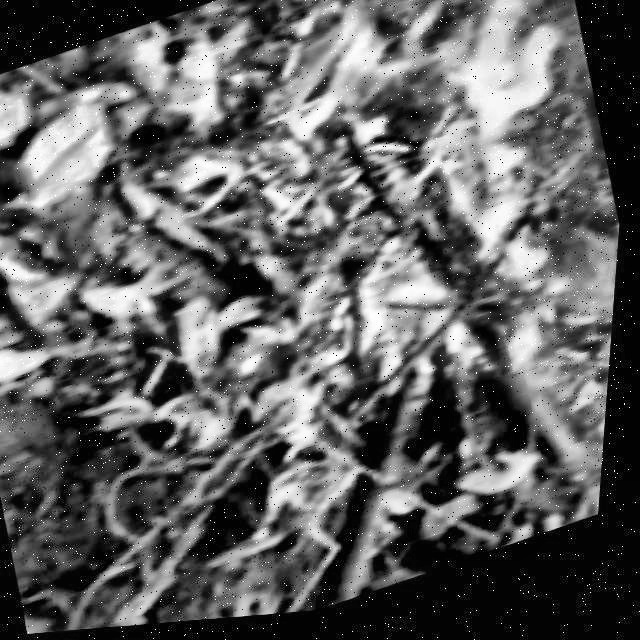Fire: (245, 0, 640, 419)
